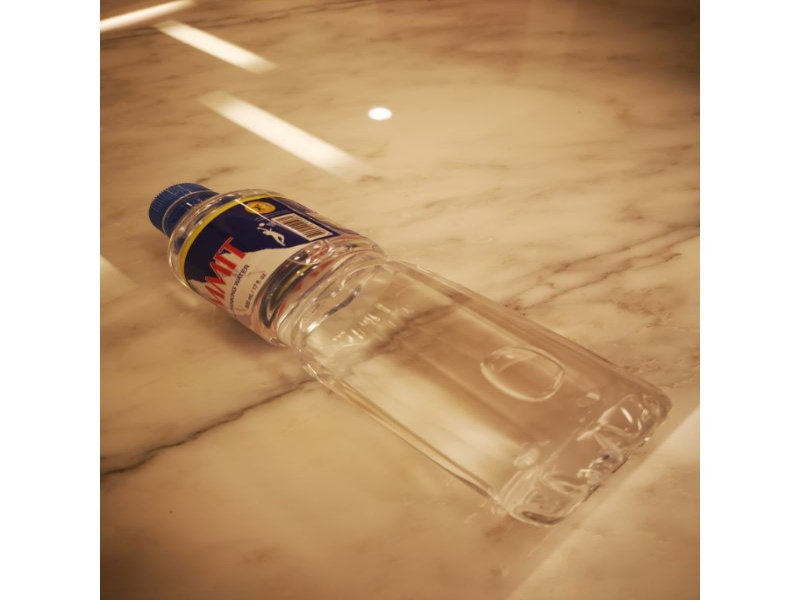PET #1: (144, 181, 674, 527)
